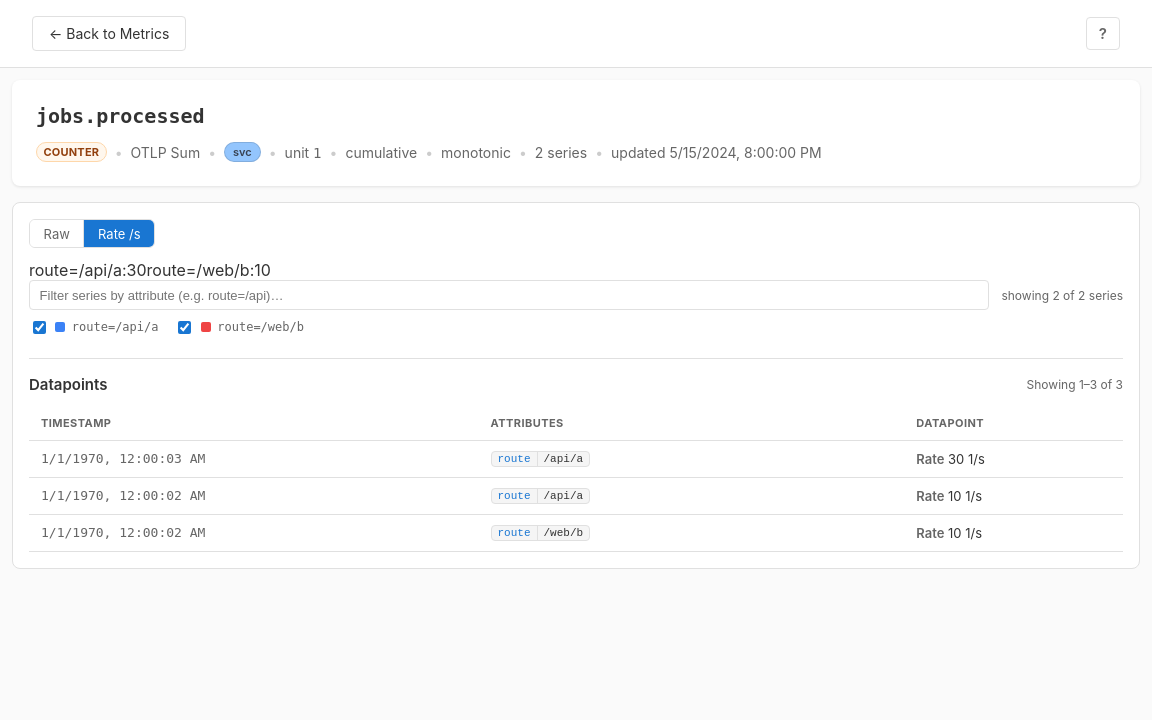
it: series filter hides a series and updates the N of M note
Expected: the heading "jobs.processed" is shown, [36, 104, 205, 128]
Expected: the text with test id "series-note" reads "showing 2 of 2 series", [1001, 288, 1123, 303]
Type "/api" into the field labelled "Filter series by attribute". click: x=509, y=295
box: [29, 280, 989, 310]
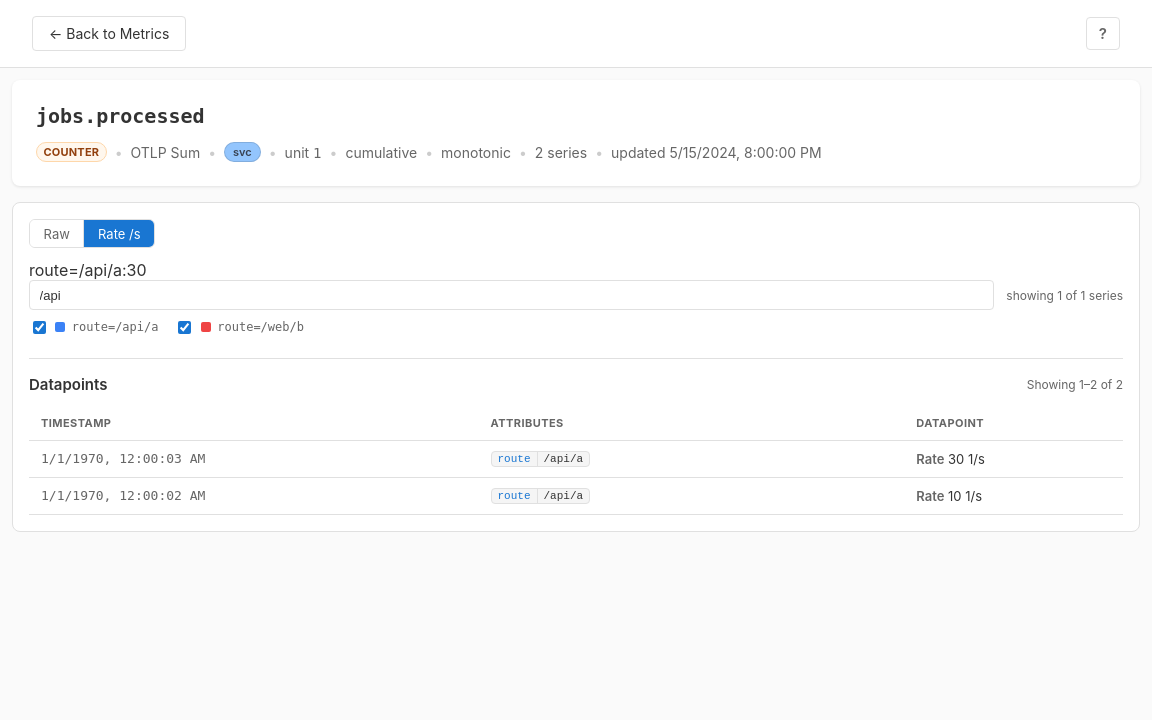
Expected: the element with test id "uplot-mock" shows "route=/api/a", [29, 260, 147, 280]
Expected: the text with test id "series-note" reads "showing 1 of 1 series", [1006, 288, 1123, 303]
